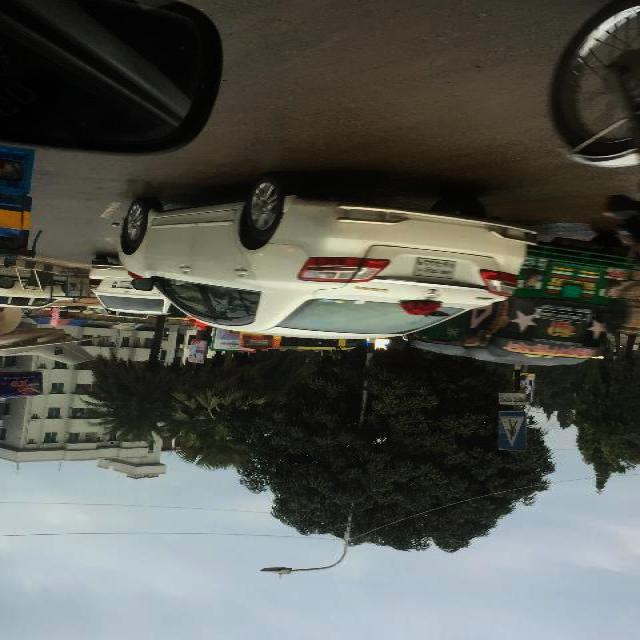white: (111, 177, 528, 336), (85, 256, 168, 316), (0, 278, 68, 308)
